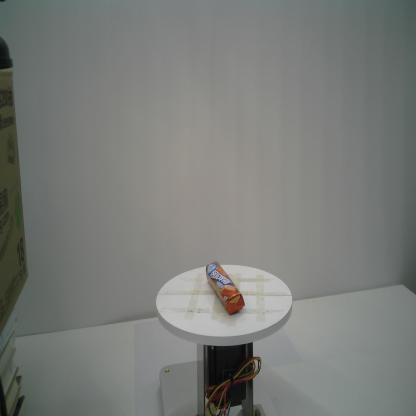Candy: (205, 260, 245, 316)
